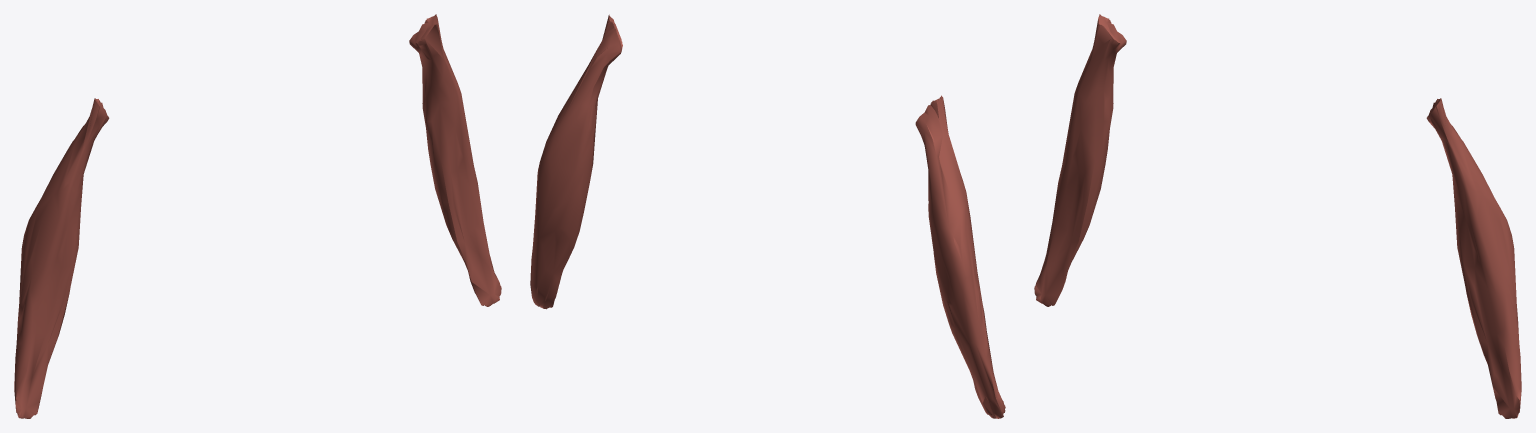
Rendered from triceps_brachii.glb.
3 renders of one model, left to right at view 1: azimuth 30°, elevation 25°; view 2: azimuth 150°, elevation 25°; view 3: azimuth 330°, elevation 25°, orthographic. The views are drawn at different scales.
Parts seen in each view (by area): view 1: Triceps Brachii; view 2: Triceps Brachii; view 3: Triceps Brachii.
Part boxes in pixels (box(x1,y1,x2,y2)): Triceps Brachii: box(14, 14, 501, 418); Triceps Brachii: box(530, 14, 1005, 418); Triceps Brachii: box(1034, 14, 1521, 418).
Size of the model in its own units: 0.4329 by 0.2655 by 0.0453.
